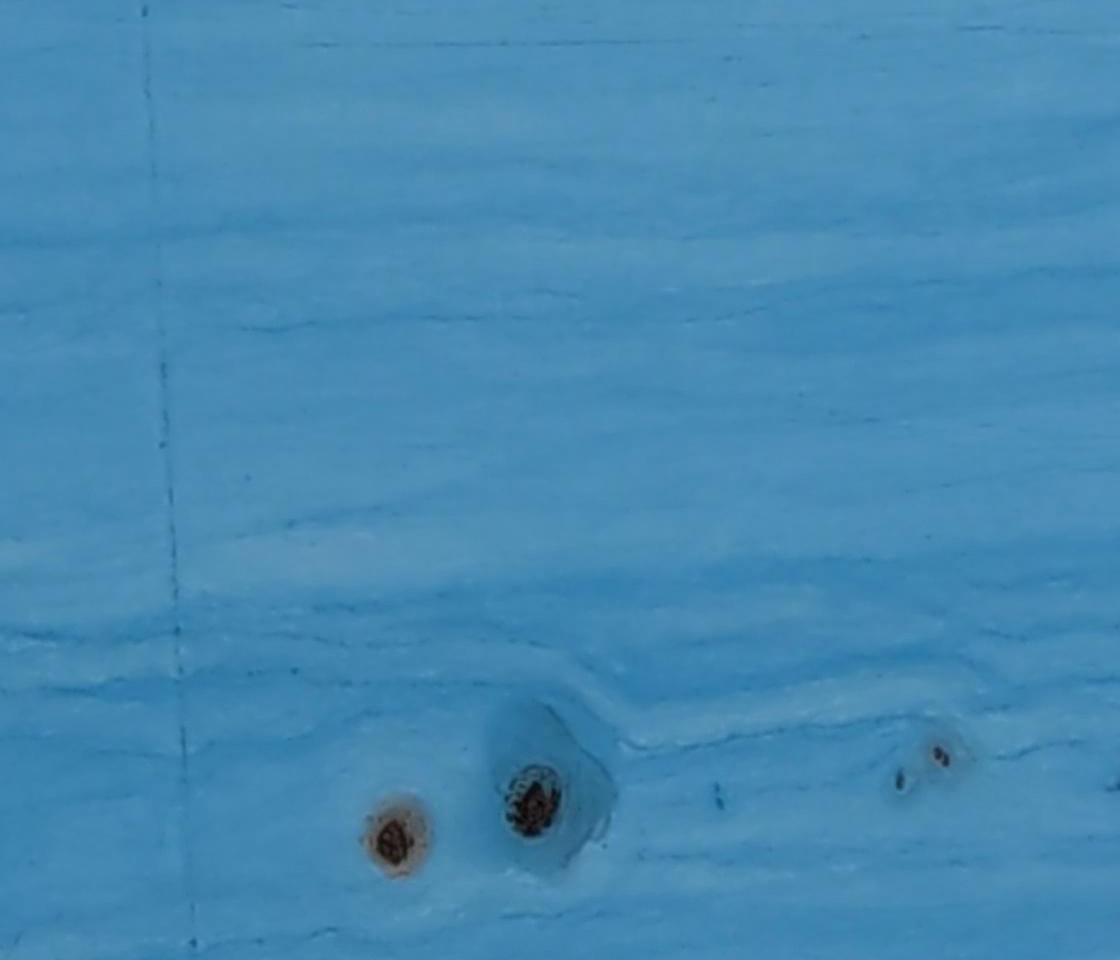rust: (502, 771, 569, 846), (369, 816, 424, 871)
